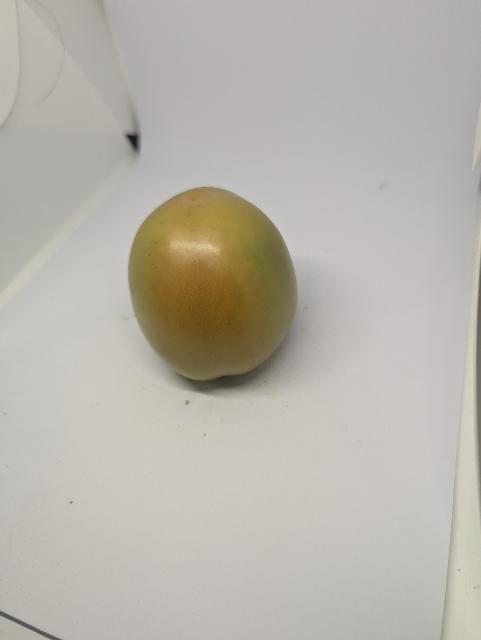breaker: (128, 187, 297, 380)
